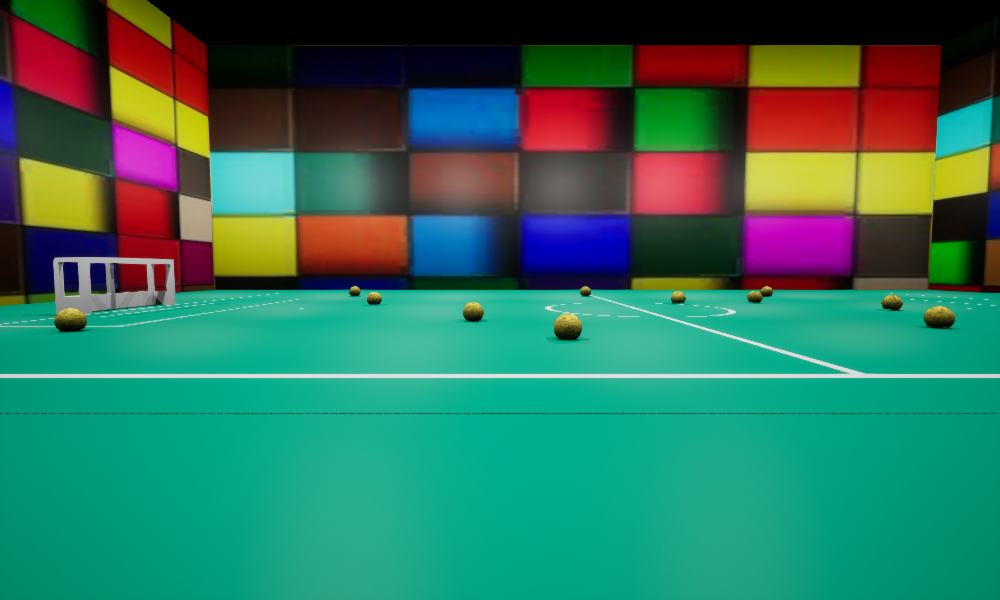b: (54, 308, 86, 331), (554, 313, 581, 339), (923, 306, 954, 327), (463, 302, 483, 320), (881, 295, 902, 309), (367, 292, 381, 304), (671, 291, 685, 303), (747, 291, 762, 302), (760, 286, 772, 296), (349, 286, 360, 295), (580, 286, 590, 295)
g: (53, 257, 175, 313)
